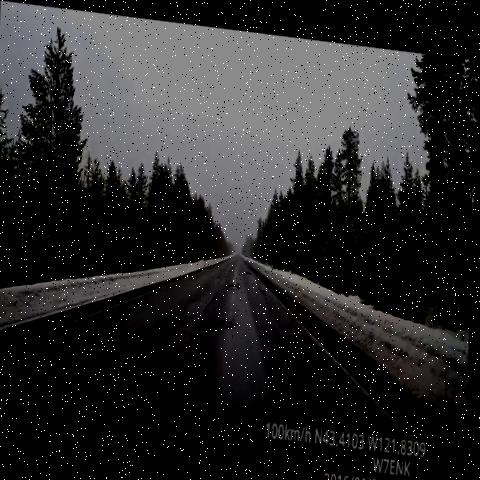pothole: (285, 317, 306, 342), (221, 308, 241, 325), (258, 275, 275, 295), (226, 271, 241, 290), (246, 260, 258, 272)
